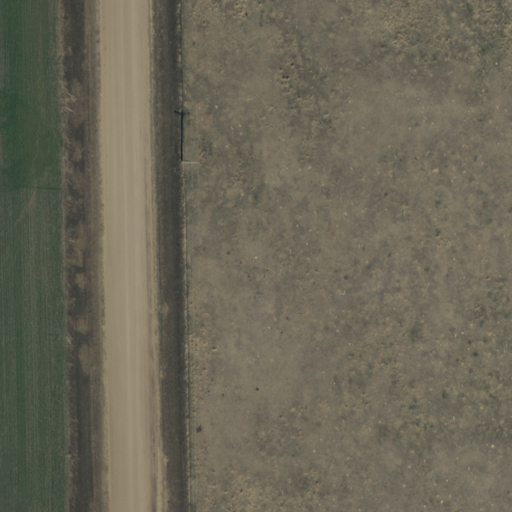DT: (175, 151, 204, 175)
